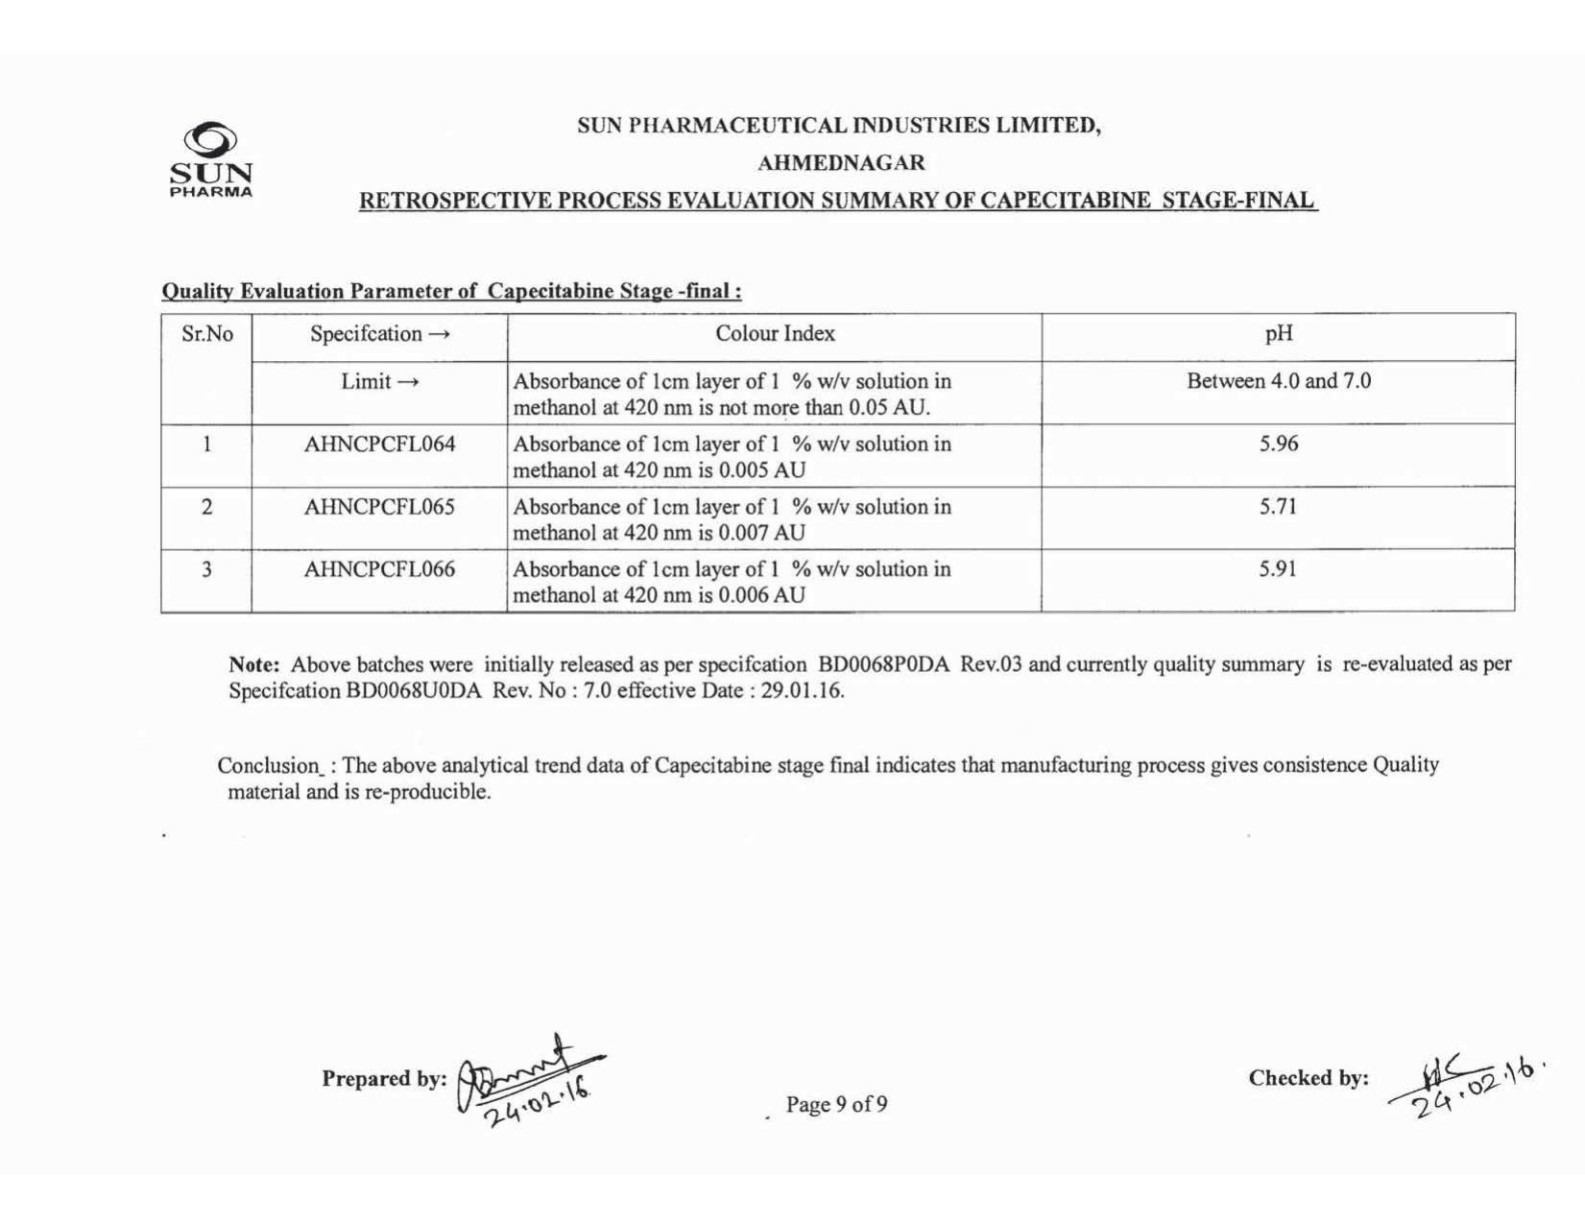merged_cells: (159, 312, 1517, 615)
